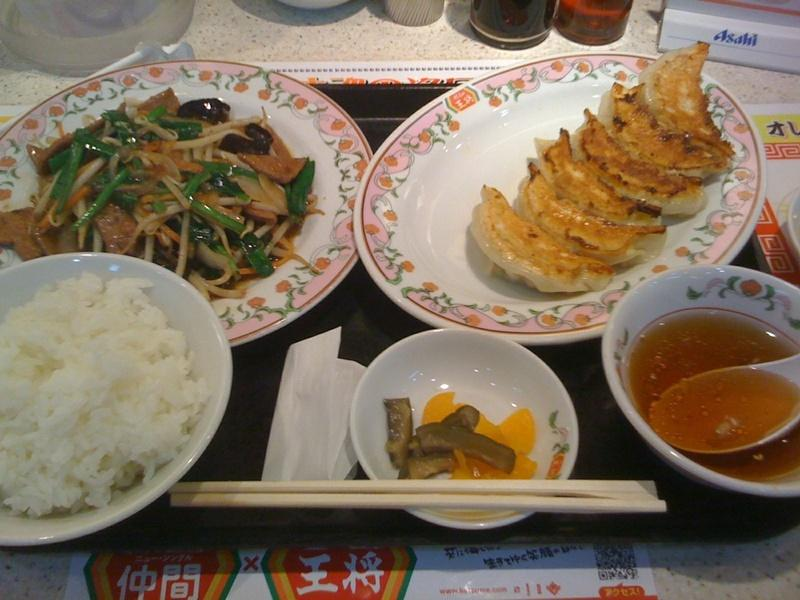plate: (353, 53, 767, 344), (0, 61, 371, 346), (0, 253, 231, 546)
rice: (0, 275, 211, 515)
